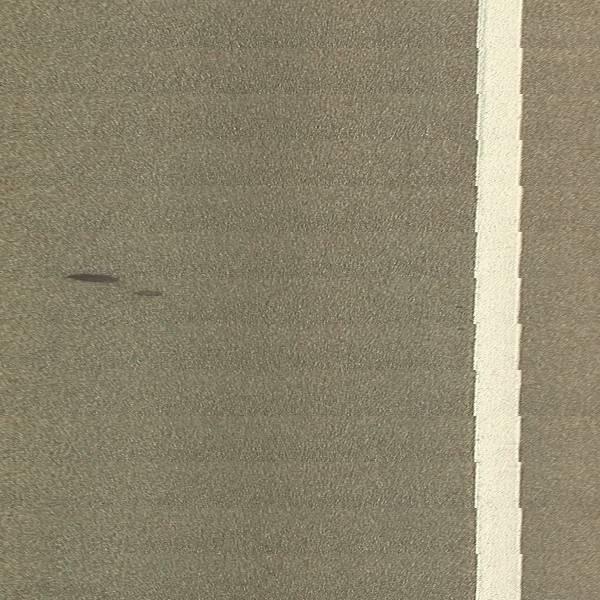road_damage: (69, 266, 162, 305)
